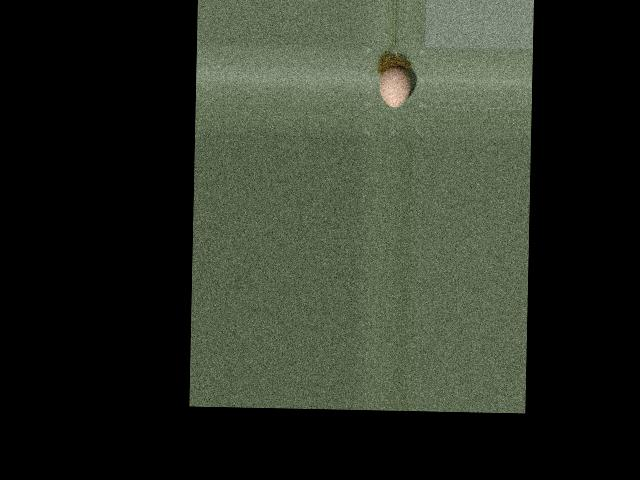egg: (379, 66, 411, 108)
